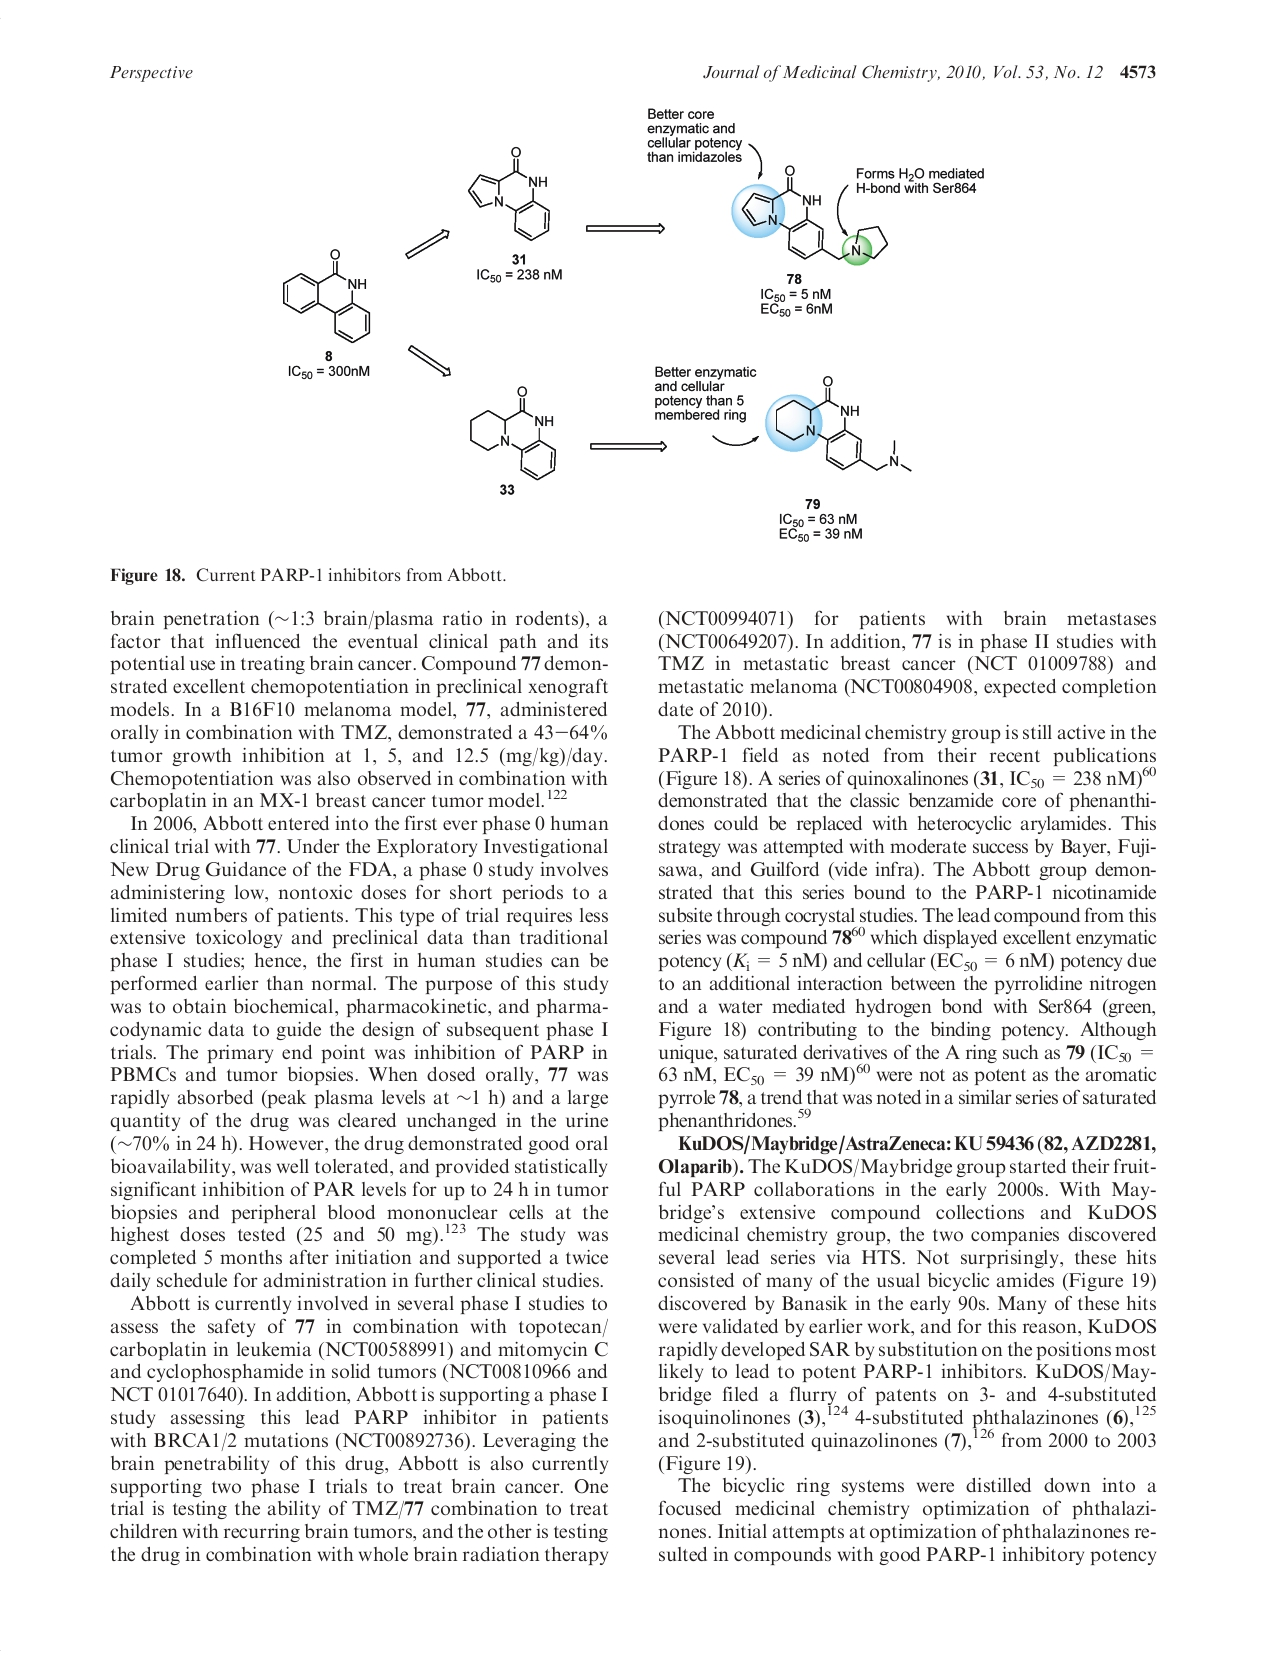exist_molecular: (739, 160, 892, 273), (769, 367, 916, 481), (465, 384, 570, 479), (278, 243, 372, 346), (468, 144, 559, 243)
